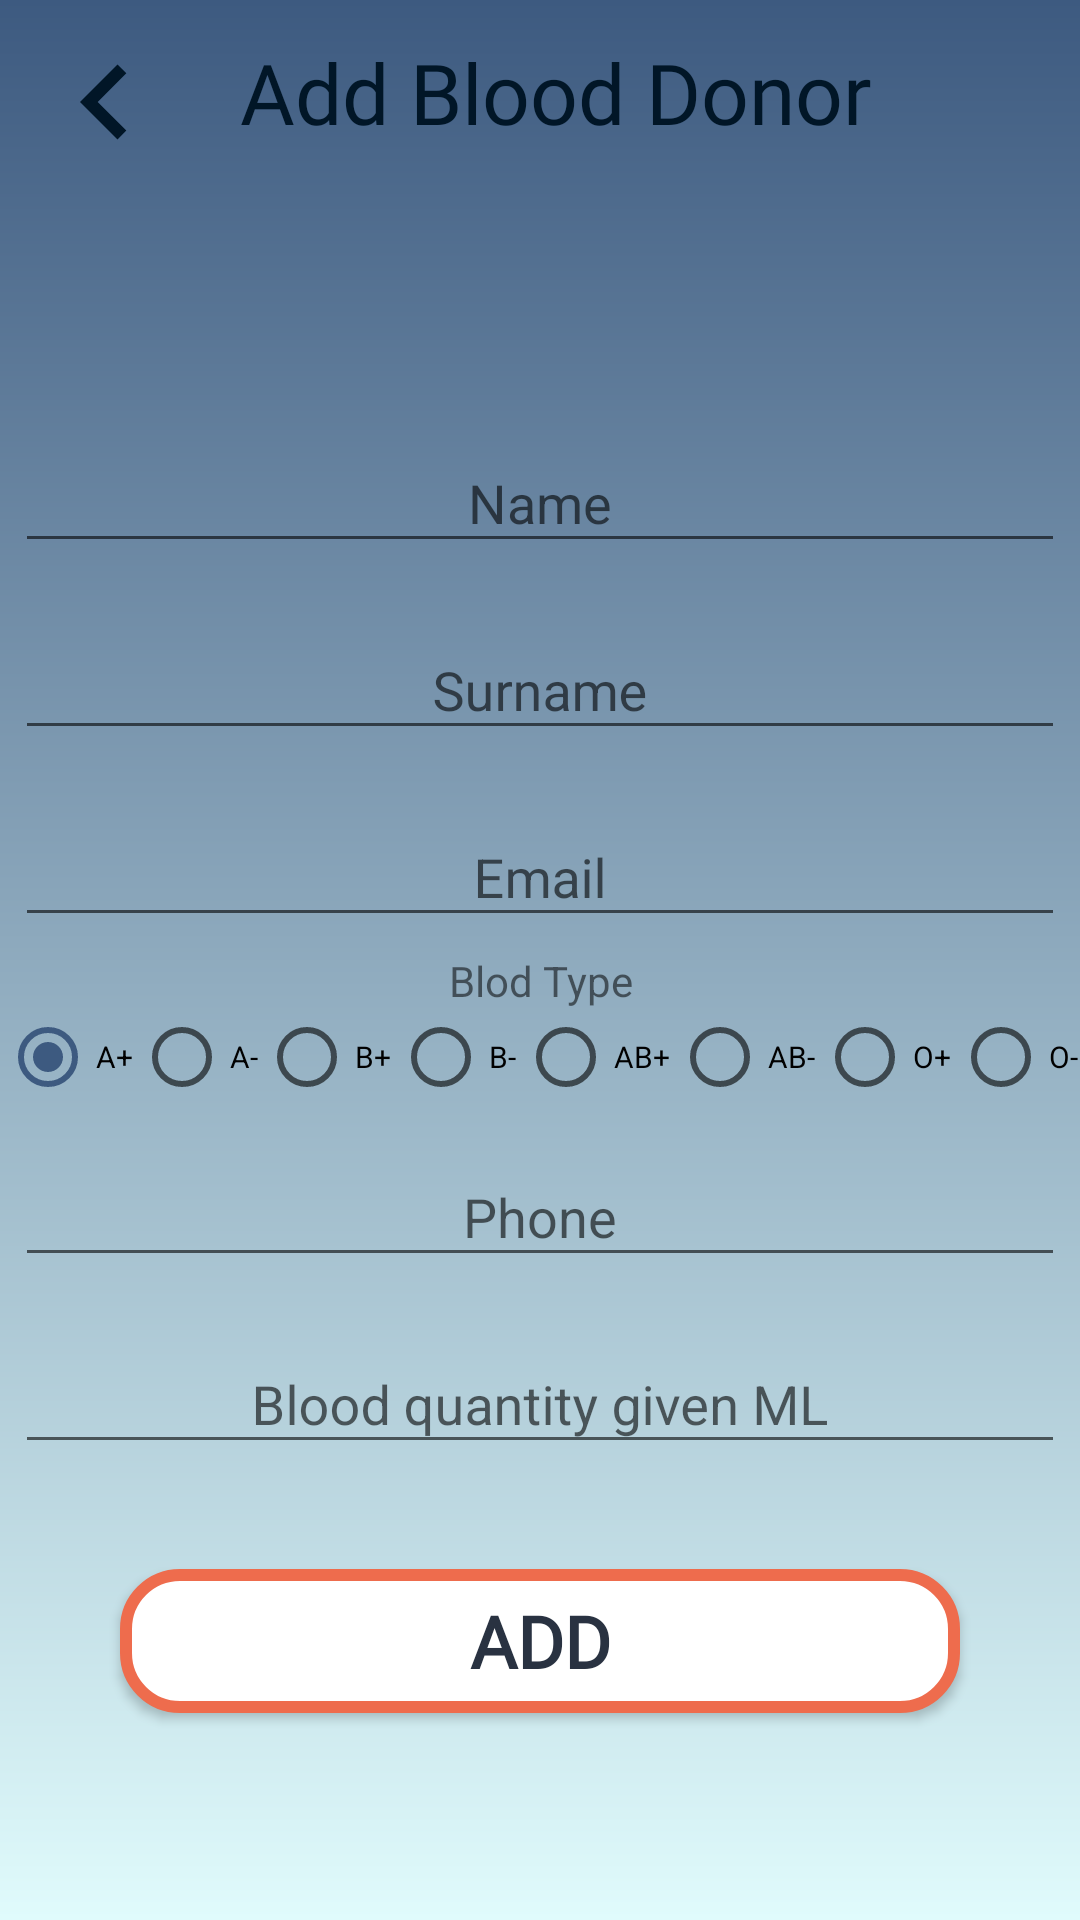

Where icons sit on this 1080×1920 app screen, as (x1=x1, y1=y1, x2=x2, y2=y2):
backleft: (x1=80, y1=65, x2=126, y2=139)
